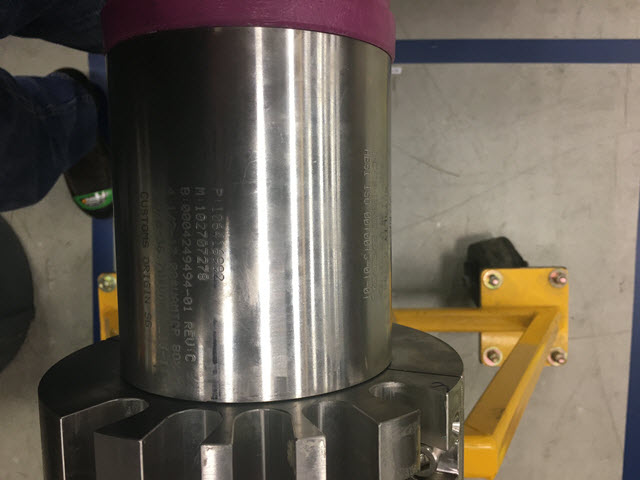character: (183, 353, 200, 365), (182, 337, 198, 348), (179, 237, 193, 248), (195, 237, 208, 248), (180, 262, 194, 272), (181, 295, 194, 305), (181, 279, 194, 289), (181, 272, 194, 282), (180, 254, 193, 264), (196, 264, 209, 274), (195, 254, 208, 264), (194, 221, 207, 231), (195, 247, 209, 256), (196, 271, 208, 281), (195, 229, 207, 239), (180, 246, 193, 255), (183, 328, 196, 337), (194, 212, 207, 221), (182, 287, 193, 297), (182, 305, 194, 314), (182, 320, 194, 329), (193, 205, 207, 212)
